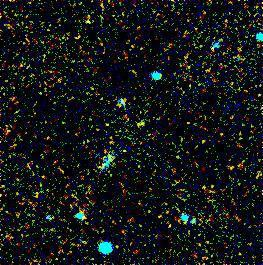star: (126, 110, 156, 140)
